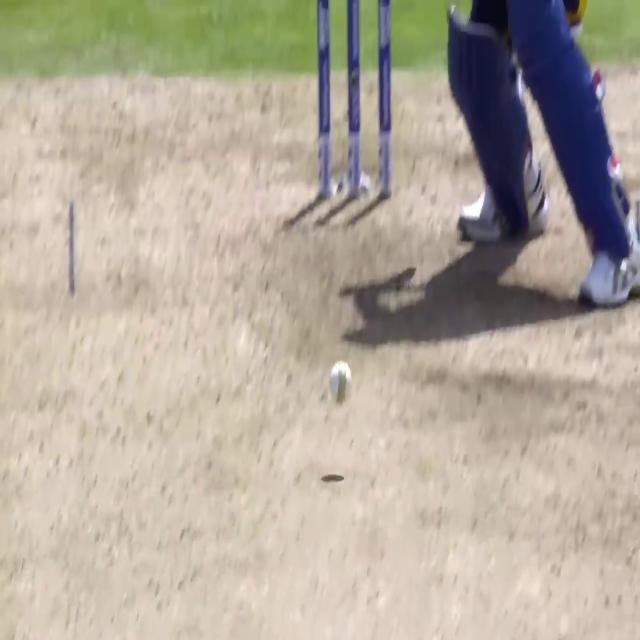ball: (328, 358, 352, 408)
